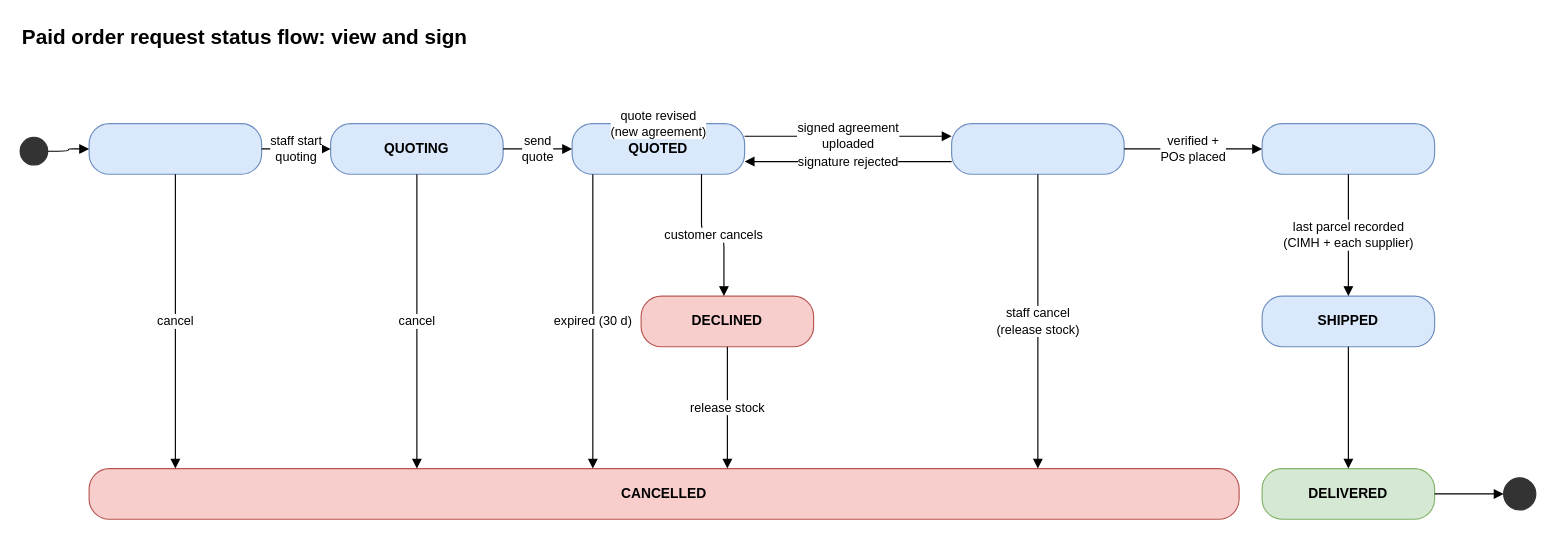
Some shapes in this 1556 by 539 pixel diagram are drawn without their labels. Here are the shapes that lost their labels. From the top down, the box of each, then its label:
(88, 122, 262, 174): SUBMITTED
(950, 122, 1124, 174): ACCEPTED
(1261, 122, 1435, 174): PURCHASING
